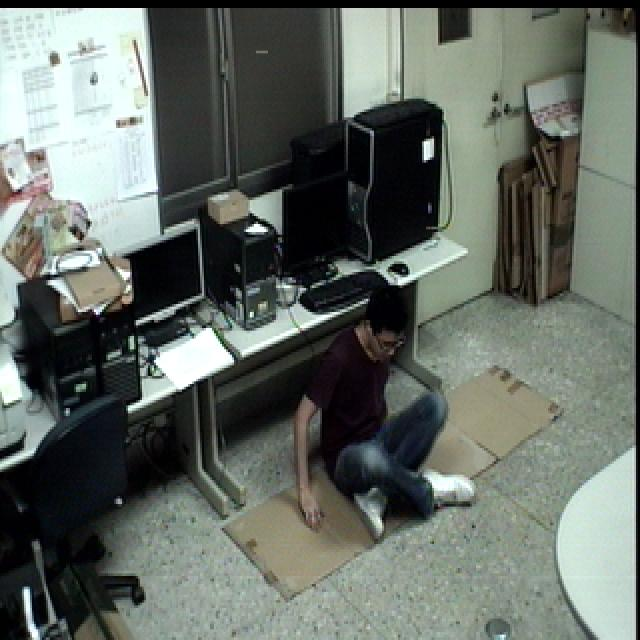sit: (290, 283, 484, 548)
